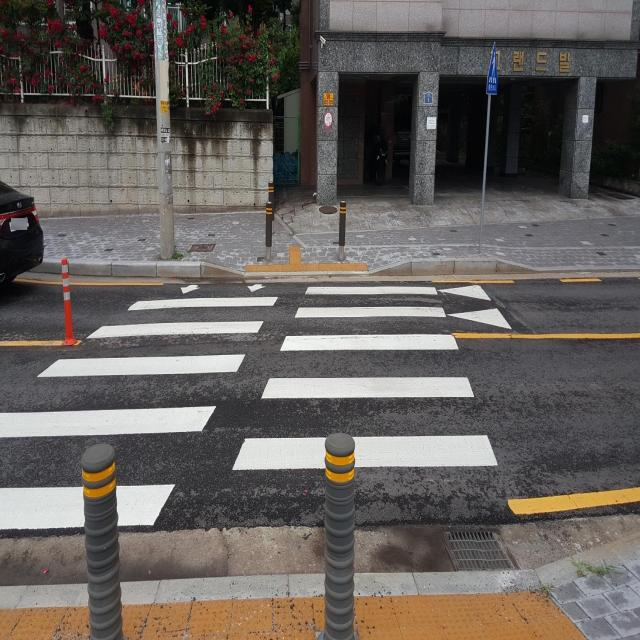횡단보도: (0, 275, 500, 535)
